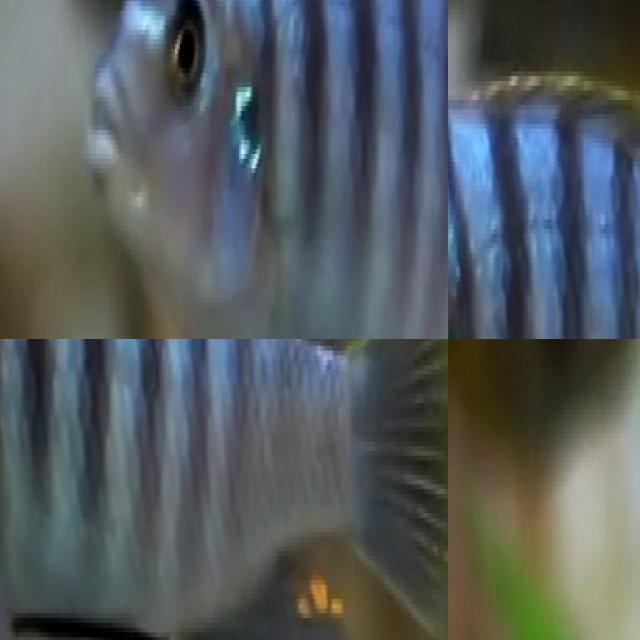fish: (0, 0, 448, 339), (0, 339, 448, 640), (448, 52, 640, 339)
